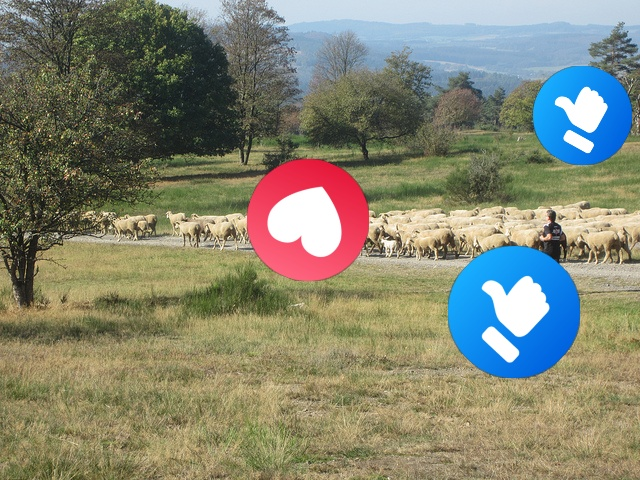like: (448, 246, 580, 378), (533, 66, 632, 165)
love: (247, 159, 369, 281)
